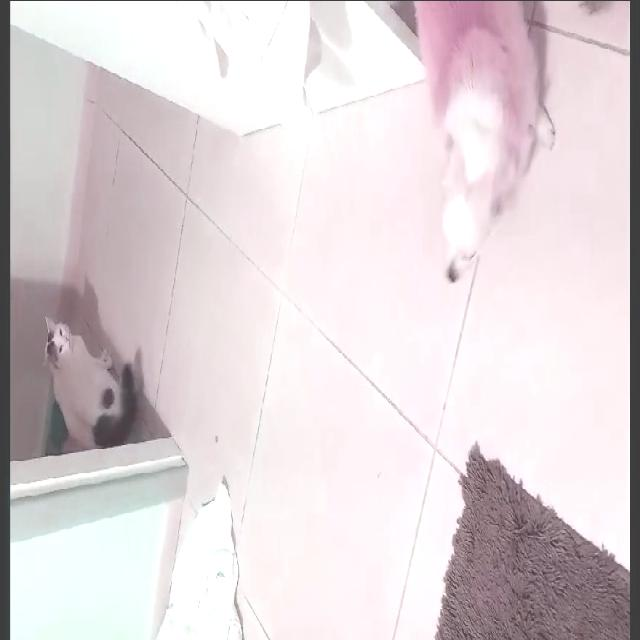Simba: (28, 294, 176, 471)
Theo: (387, 1, 567, 299)
